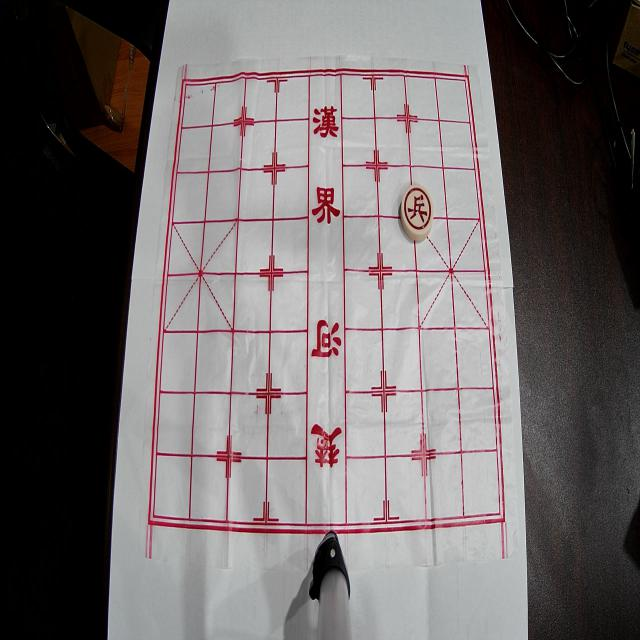red-soldier: (401, 184, 434, 242)
